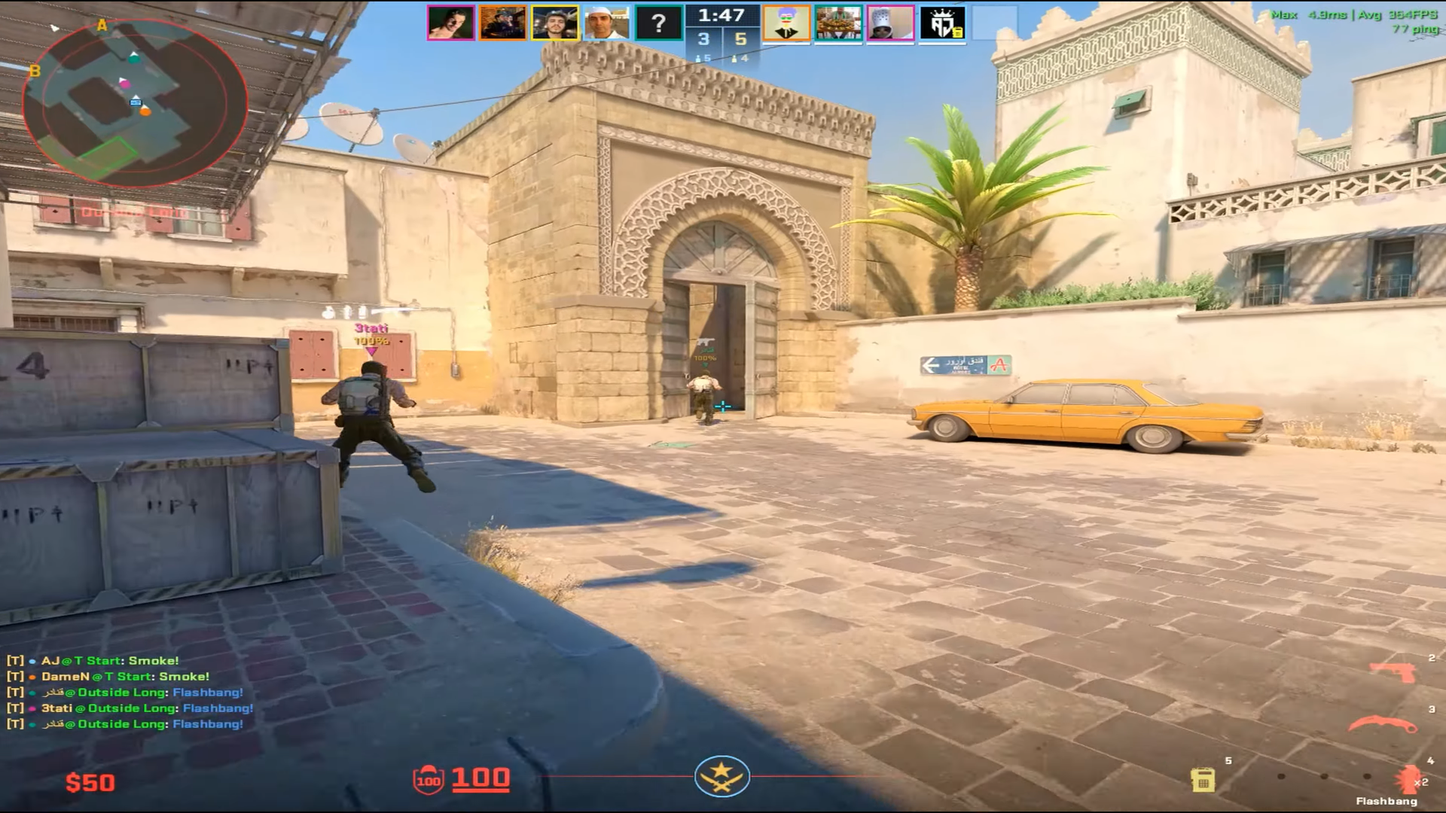T: (320, 360, 438, 495), (687, 370, 715, 425)
